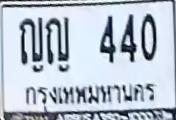0: (140, 13, 157, 61)
4: (99, 13, 116, 62), (120, 13, 136, 62)
A13: (18, 16, 43, 66), (45, 16, 70, 66)
BKK: (22, 78, 156, 105)
